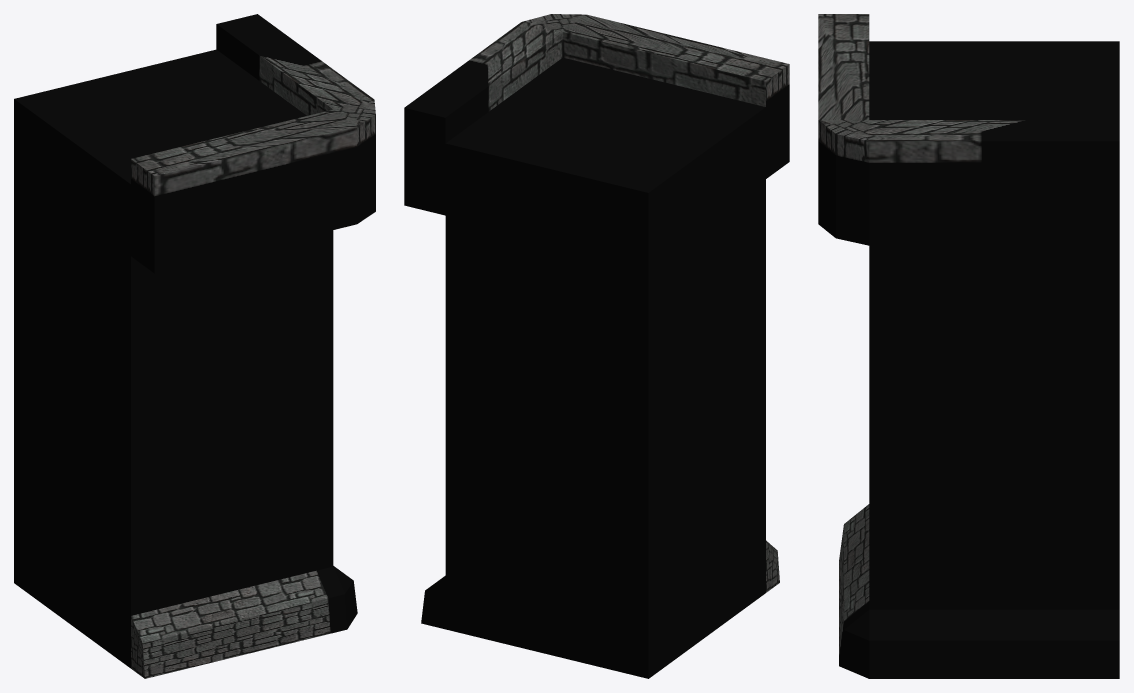
Rendered from Piece_CornerOuter.FBX.
3 views of the same model, side by side, from view 1: azimuth 30°, elevation 25°; view 2: azimuth 150°, elevation 25°; view 3: azimuth 270°, elevation 25° (orthographic). The views are drawn at different scales.
Visible parts, largest first — view 1: Piece_OuterCorner001; view 2: Piece_OuterCorner001; view 3: Piece_OuterCorner001.
Boxes of the visible parts, x1,y1,x2,y2 form: Piece_OuterCorner001: [14, 14, 375, 678]; Piece_OuterCorner001: [404, 14, 789, 678]; Piece_OuterCorner001: [818, 14, 1119, 678].
Size of the model in its own units: 100 by 200 by 100.
